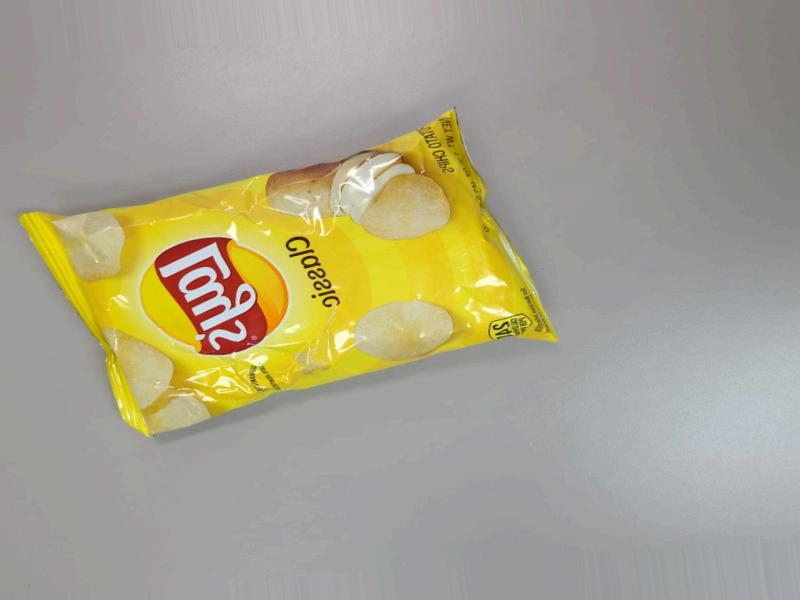lays: (91, 111, 577, 419)
